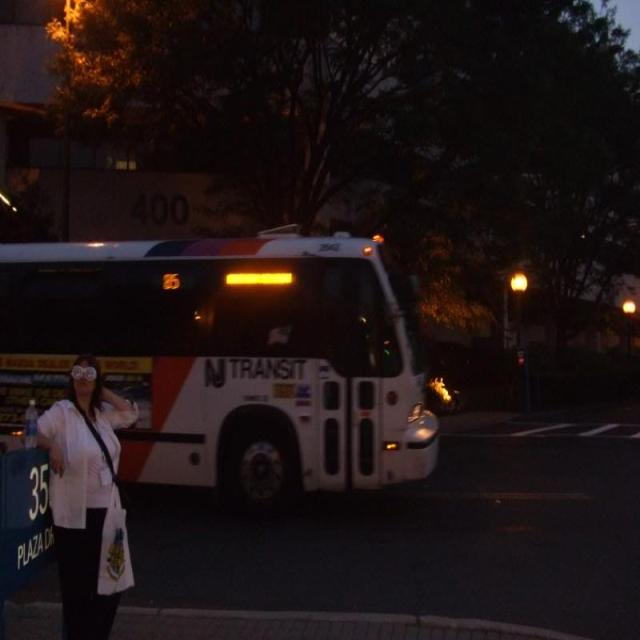Bottle: (24, 372, 50, 471)
Bus: (0, 183, 496, 514)
People: (55, 341, 142, 626)
